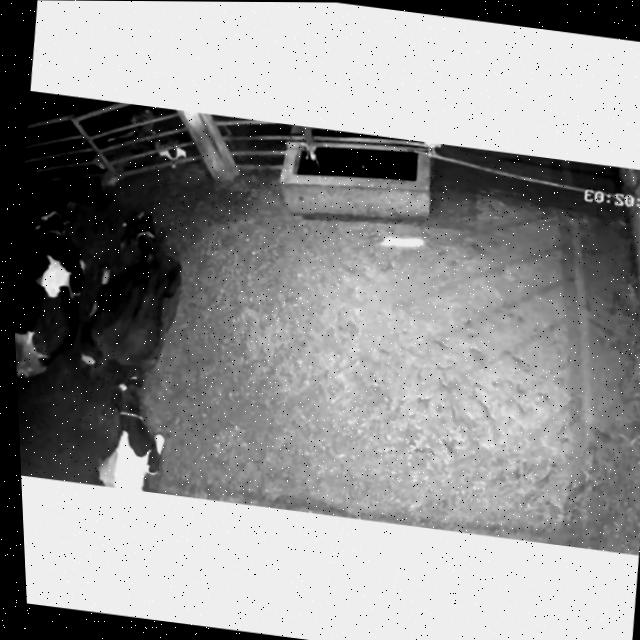lay: (57, 188, 209, 392), (7, 167, 103, 396), (64, 358, 194, 494)
